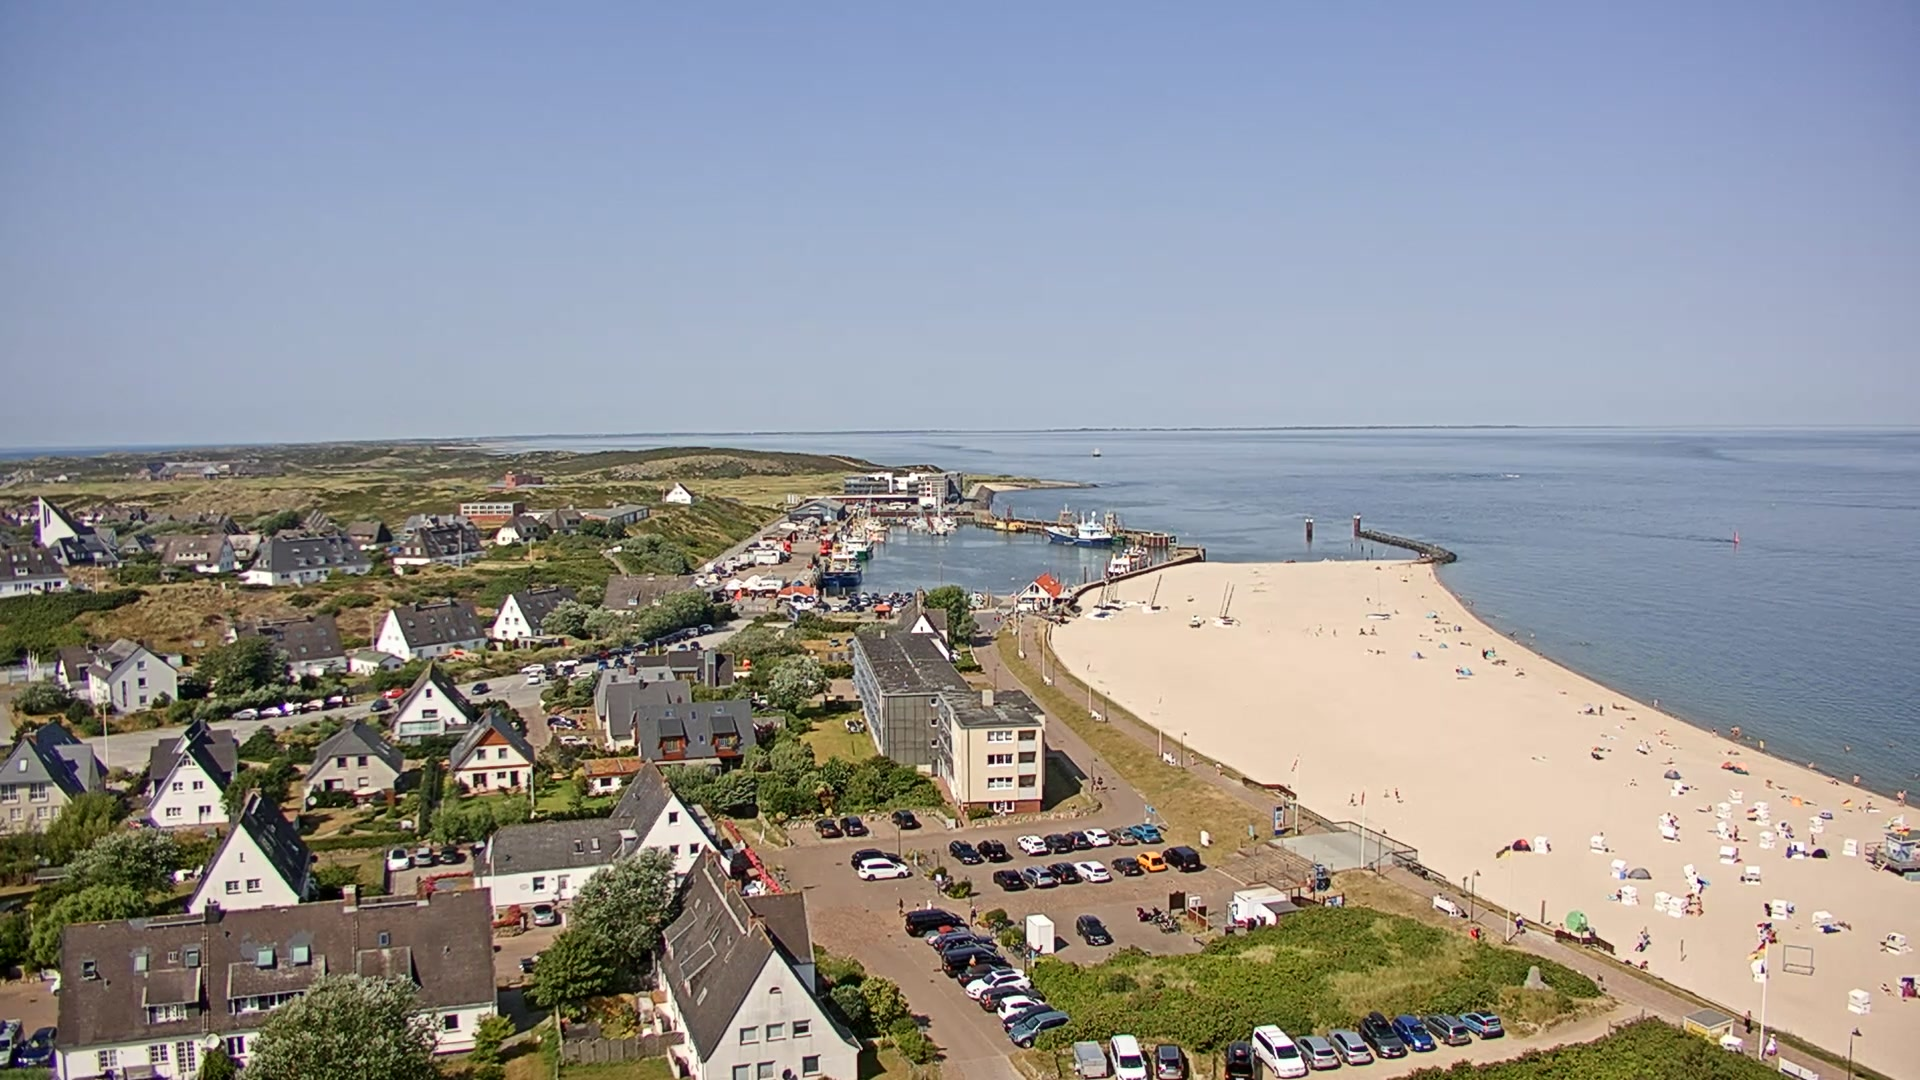human: (1765, 1032, 1777, 1057), (1743, 1009, 1753, 1034), (1910, 845, 1920, 865), (1515, 911, 1524, 933), (969, 904, 978, 926), (1695, 896, 1704, 916), (1635, 931, 1645, 952), (1306, 872, 1315, 891), (896, 896, 903, 915), (1896, 788, 1905, 805), (1733, 823, 1740, 840), (1215, 761, 1222, 776), (1578, 911, 1587, 926), (1348, 791, 1356, 806), (1615, 888, 1623, 902), (1636, 738, 1645, 752), (925, 898, 934, 909), (1830, 774, 1840, 785), (1097, 775, 1104, 790), (1394, 786, 1401, 801), (1864, 800, 1872, 812), (1853, 773, 1861, 785), (1557, 922, 1565, 932), (1435, 892, 1444, 900), (914, 901, 921, 911), (1189, 752, 1195, 765), (1640, 961, 1649, 969), (1332, 627, 1337, 636), (1711, 728, 1717, 737)
land: (1251, 1022, 1307, 1078), (1007, 1011, 1073, 1049), (1357, 1010, 1405, 1059), (965, 967, 1035, 1000), (942, 947, 1013, 978), (904, 905, 967, 937), (1108, 1033, 1148, 1079), (17, 1024, 58, 1068), (1391, 1014, 1435, 1053), (1328, 1027, 1373, 1066), (1292, 1034, 1339, 1071), (1420, 1013, 1471, 1046), (933, 929, 995, 954), (1460, 1008, 1506, 1040), (1000, 1005, 1054, 1032), (1222, 1038, 1257, 1079), (978, 986, 1034, 1012), (856, 857, 910, 882), (1, 1017, 26, 1069), (1152, 1038, 1186, 1078), (995, 995, 1044, 1022), (957, 961, 1008, 987), (1159, 843, 1200, 872), (1074, 912, 1109, 945), (849, 846, 901, 869), (923, 922, 971, 946), (1017, 863, 1054, 888), (1071, 858, 1109, 882), (947, 837, 981, 864), (1046, 859, 1079, 883), (992, 866, 1025, 890), (1133, 849, 1167, 872), (976, 836, 1007, 860), (1041, 829, 1072, 853), (1016, 832, 1047, 854), (1079, 826, 1110, 847), (385, 845, 411, 870), (1110, 855, 1141, 875), (1128, 821, 1161, 840), (1105, 825, 1135, 845), (530, 903, 556, 926), (838, 814, 865, 835), (318, 692, 353, 708), (890, 807, 916, 828), (1066, 827, 1089, 849), (413, 844, 435, 866), (546, 713, 579, 728), (437, 845, 460, 865), (813, 815, 837, 835), (1135, 903, 1161, 922), (231, 707, 261, 720), (558, 734, 590, 747), (520, 662, 546, 675), (260, 705, 286, 717), (302, 698, 327, 709), (368, 698, 389, 711), (554, 657, 580, 667), (382, 686, 405, 697), (628, 640, 650, 652), (648, 637, 670, 649), (472, 681, 488, 696), (885, 501, 906, 511), (680, 627, 699, 638), (607, 647, 628, 657), (526, 671, 540, 685), (698, 623, 713, 634), (543, 668, 558, 681), (815, 600, 831, 610), (571, 670, 592, 678), (580, 653, 598, 662), (614, 657, 625, 668), (670, 632, 684, 639), (598, 659, 609, 668), (563, 664, 575, 674), (596, 649, 607, 658), (677, 643, 688, 652), (882, 598, 891, 606), (860, 597, 870, 605), (880, 593, 890, 601), (690, 641, 700, 649), (806, 595, 815, 602), (860, 589, 869, 597), (831, 603, 840, 611), (853, 604, 864, 611), (663, 634, 676, 640), (846, 598, 854, 605), (870, 603, 878, 611), (890, 591, 900, 598), (842, 604, 851, 611), (850, 591, 859, 598), (872, 591, 879, 597), (905, 591, 913, 597), (895, 600, 903, 606), (837, 593, 845, 599)
sea: (1041, 496, 1126, 549), (823, 539, 862, 592), (1103, 538, 1152, 579), (971, 502, 1027, 534), (1210, 579, 1242, 627), (1091, 573, 1124, 611), (1141, 572, 1168, 613), (1085, 578, 1112, 619), (931, 483, 951, 535), (841, 528, 872, 562), (1090, 446, 1103, 458)
